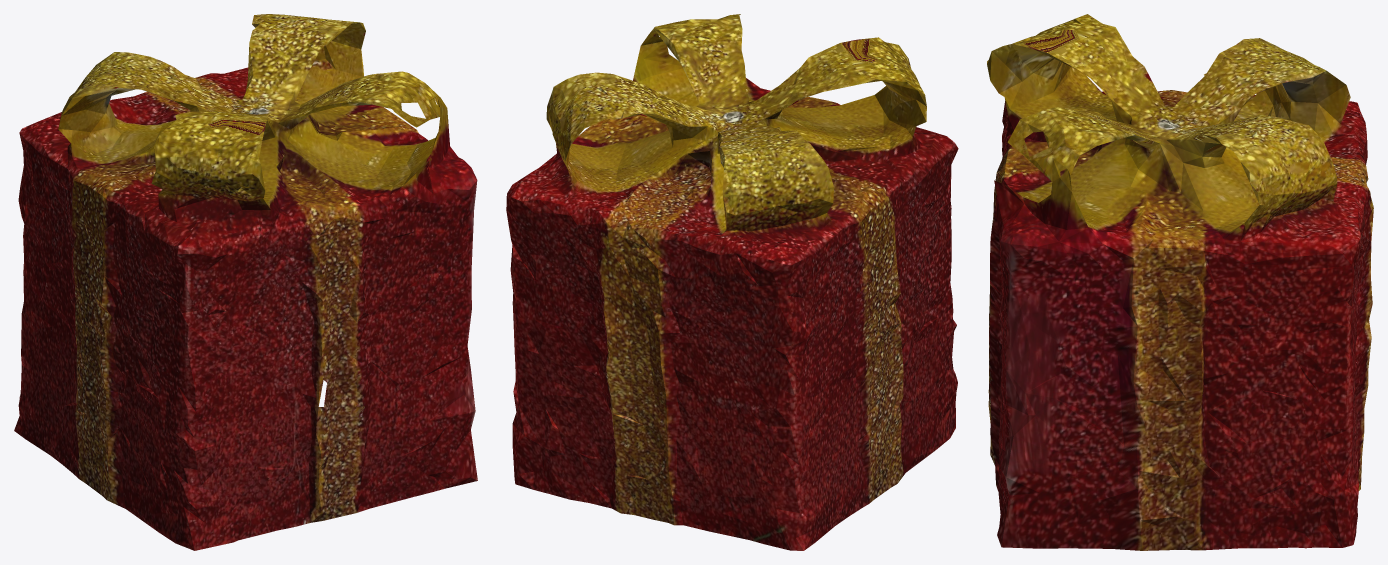
The model's file is prez.glb.
3 views of the same model, side by side, from view 1: azimuth 30°, elevation 25°; view 2: azimuth 150°, elevation 25°; view 3: azimuth 270°, elevation 25° (orthographic). The views are drawn at different scales.
Parts seen in each view (by area): view 1: Mesh_0; view 2: Mesh_0; view 3: Mesh_0.
Boxes of the visible parts, left/top/right/bottom form: Mesh_0: left=14, top=14, right=477, bottom=550; Mesh_0: left=506, top=14, right=958, bottom=550; Mesh_0: left=987, top=14, right=1373, bottom=550.
Size of the model in its own units: 0.1406 by 0.1666 by 0.1436.
Materials: 1 (1 with a texture image).
